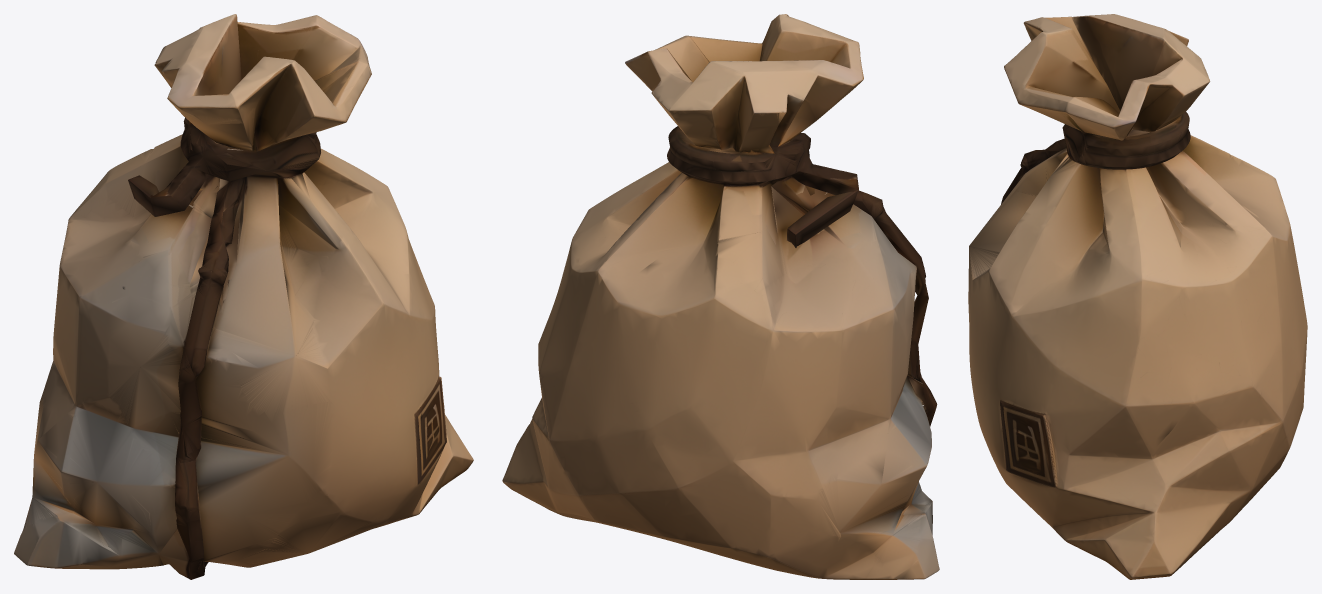
The model's file is CargoSack.fbx.
The picture shows the model from 3 angles, left to right: view 1: azimuth 30°, elevation 25°; view 2: azimuth 150°, elevation 25°; view 3: azimuth 270°, elevation 25°; orthographic projection. The views are drawn at different scales.
Visible parts, largest first — view 1: texture_pbr_v128; view 2: texture_pbr_v128; view 3: texture_pbr_v128.
Boxes of the visible parts, bbox=[...] form: texture_pbr_v128: bbox=[14, 14, 473, 579]; texture_pbr_v128: bbox=[502, 14, 939, 579]; texture_pbr_v128: bbox=[968, 14, 1307, 579].
Bounding box in the file's own units: 83.49 × 89.8 × 61.06.
Materials: 1 (1 with a texture image).
